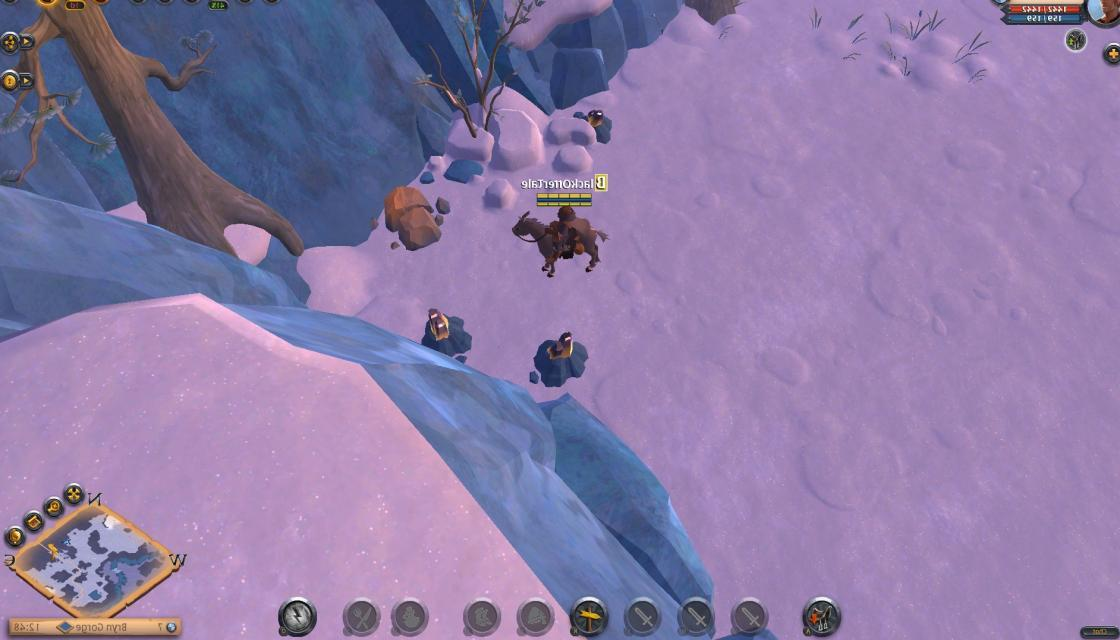copperore: (528, 330, 590, 390), (418, 305, 472, 361), (568, 104, 620, 143)
limestone: (380, 178, 452, 252)
